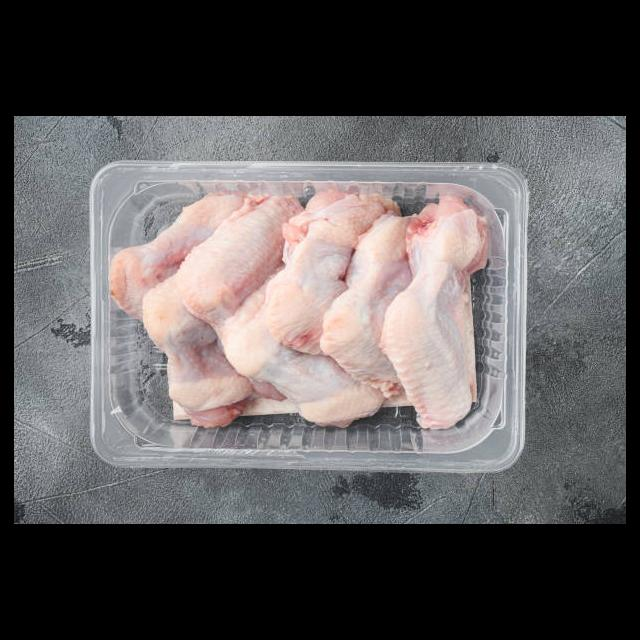chicken: (107, 191, 491, 441)
